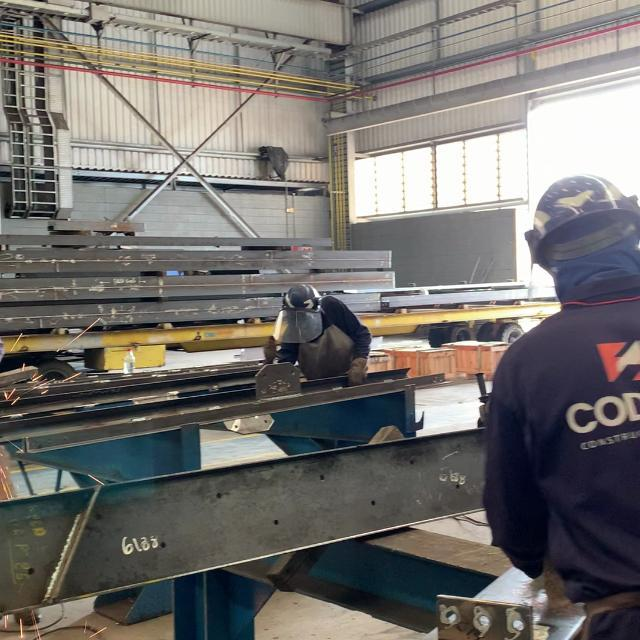face-shield: (527, 242, 559, 302), (273, 312, 324, 346)
glove: (343, 356, 369, 387)
helmet: (532, 175, 637, 238), (280, 278, 322, 312)
person: (482, 172, 633, 635), (262, 281, 373, 384)
